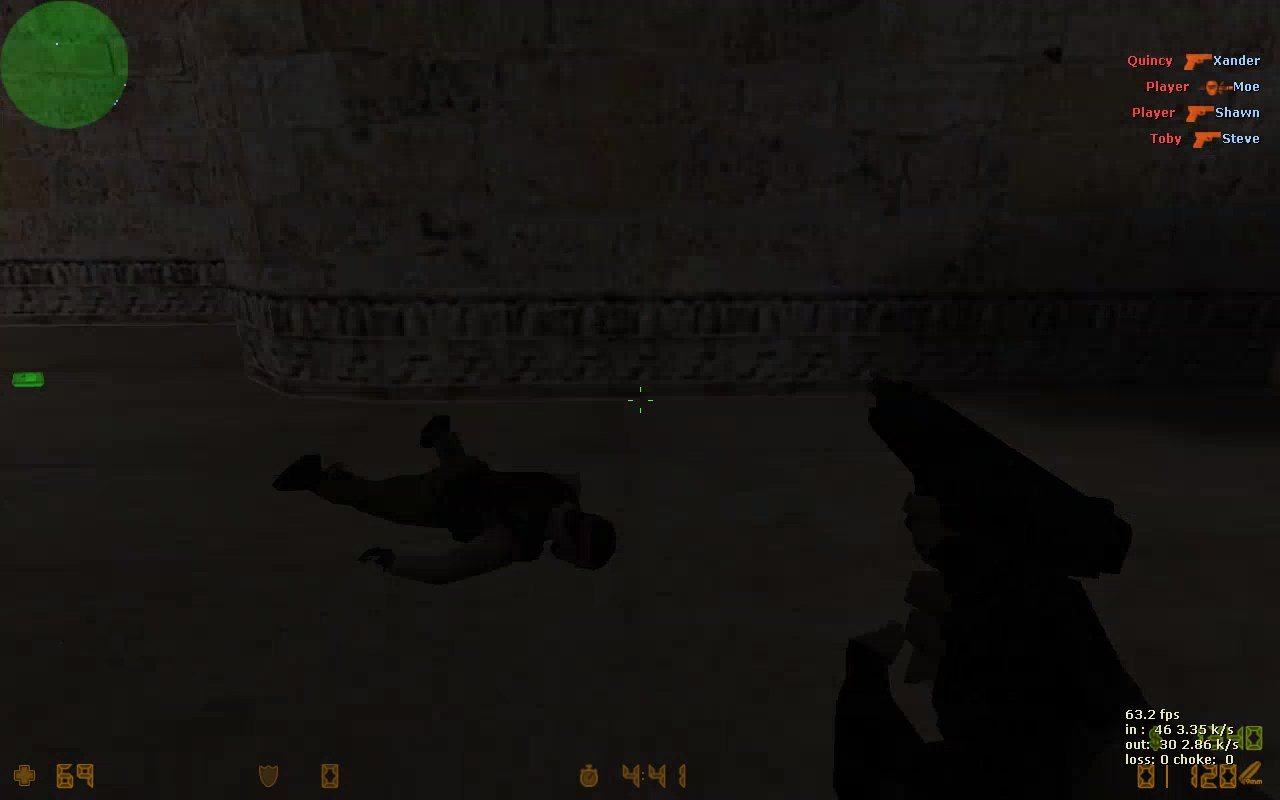dead: (273, 412, 618, 585)
